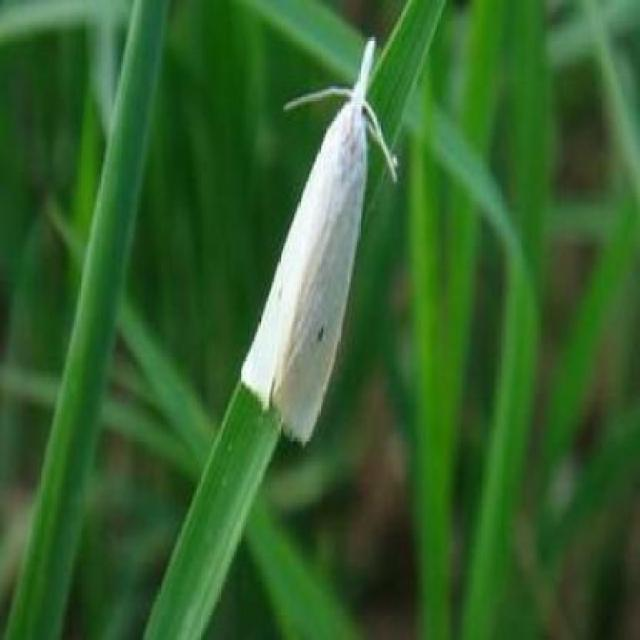stem-borer: (233, 27, 398, 460)
